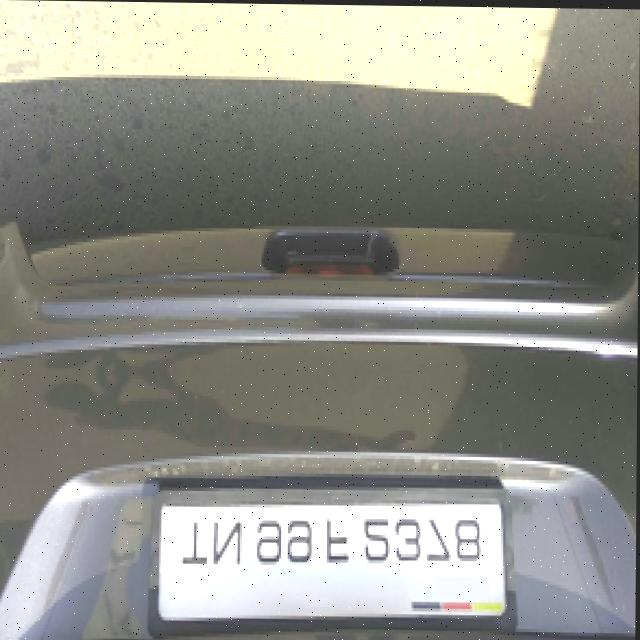plate: (162, 493, 506, 626)
